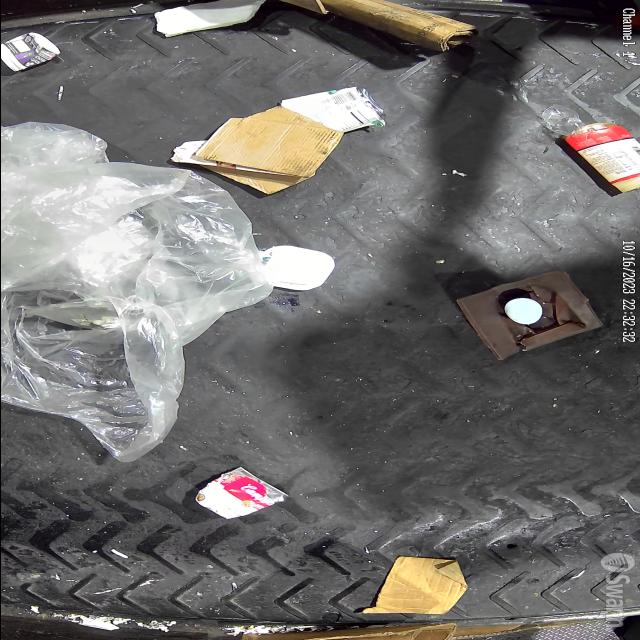can: (280, 86, 388, 134), (193, 468, 287, 520)
